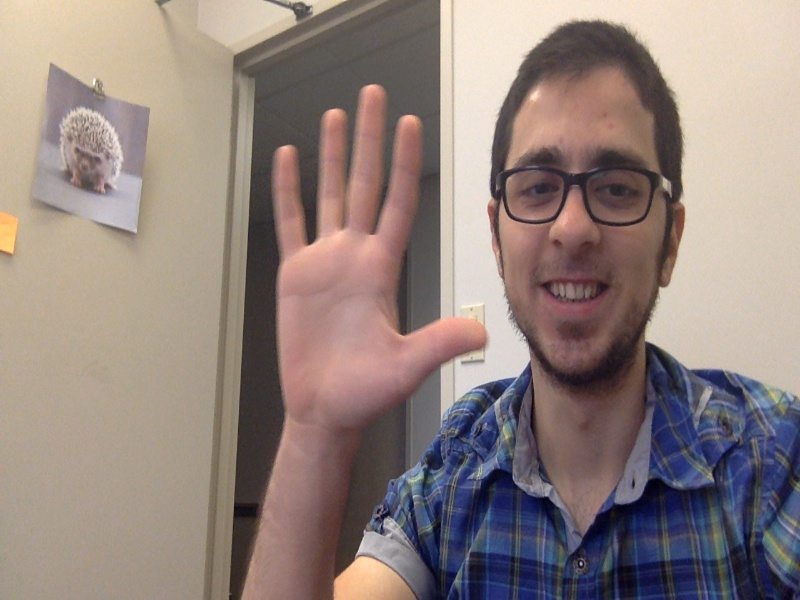5-hand: (268, 82, 490, 421)
